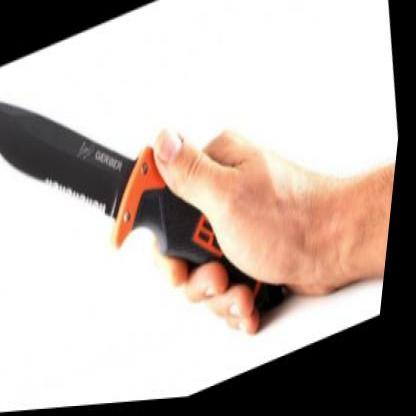knife: (0, 0, 246, 373)
